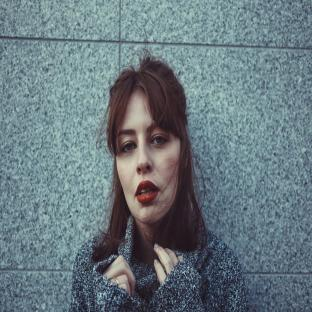Human: (68, 54, 248, 312)
